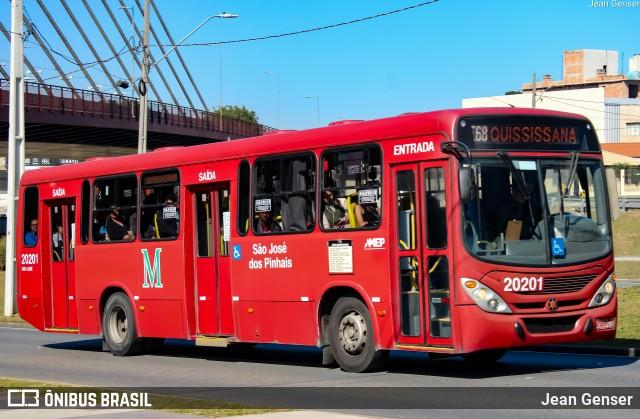QUISSISSANA: (487, 122, 581, 148)
